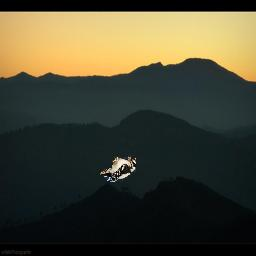Woodpecker: (98, 156, 136, 183)
